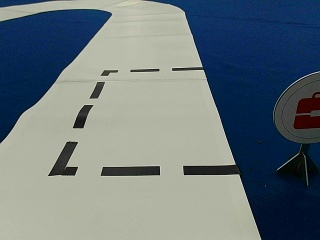company: (273, 73, 319, 142)
